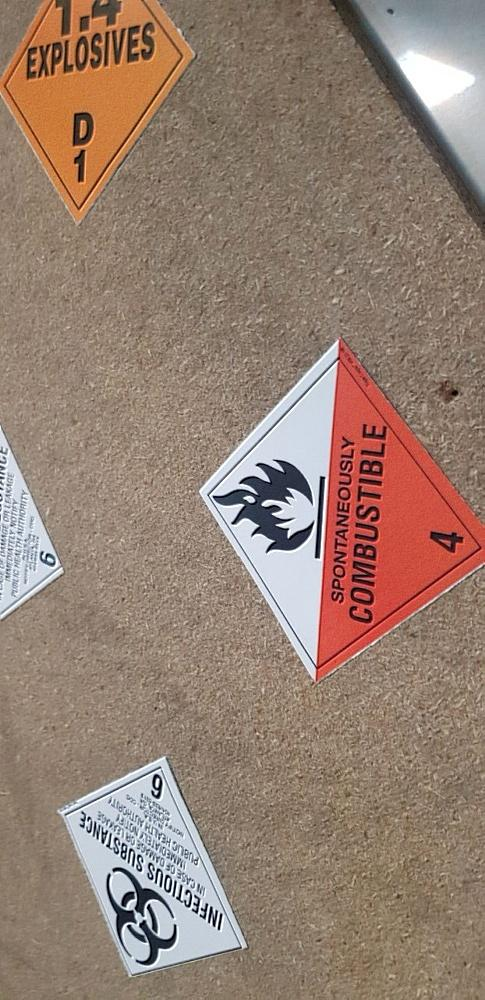explosive: (1, 4, 189, 211)
infectious-substance: (61, 754, 246, 979), (1, 417, 68, 628)
spontaneously-combustible: (205, 357, 480, 667)
